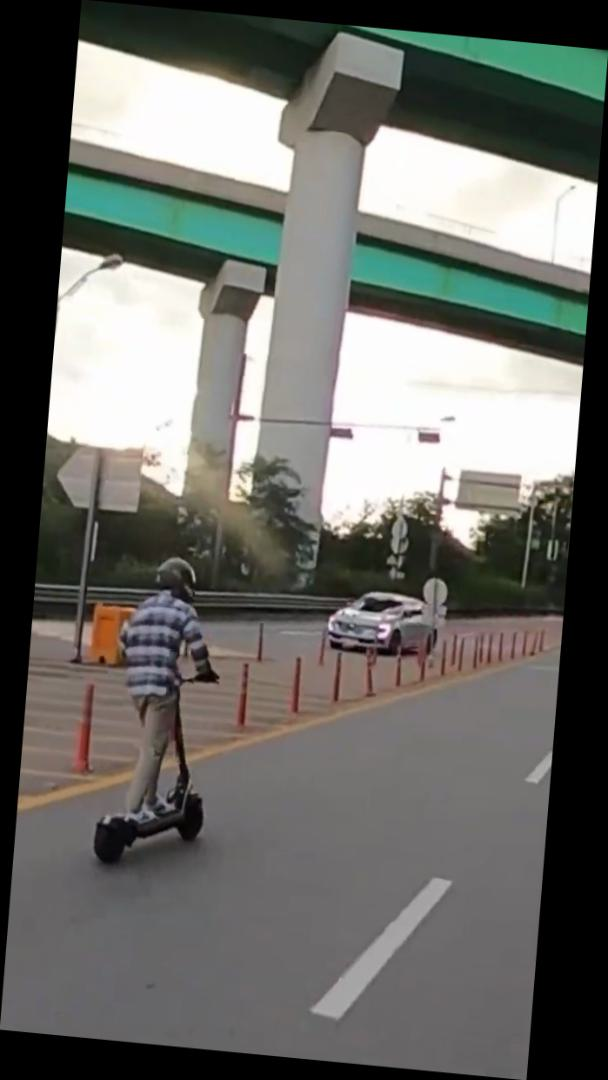helmet: (85, 545, 238, 874)
